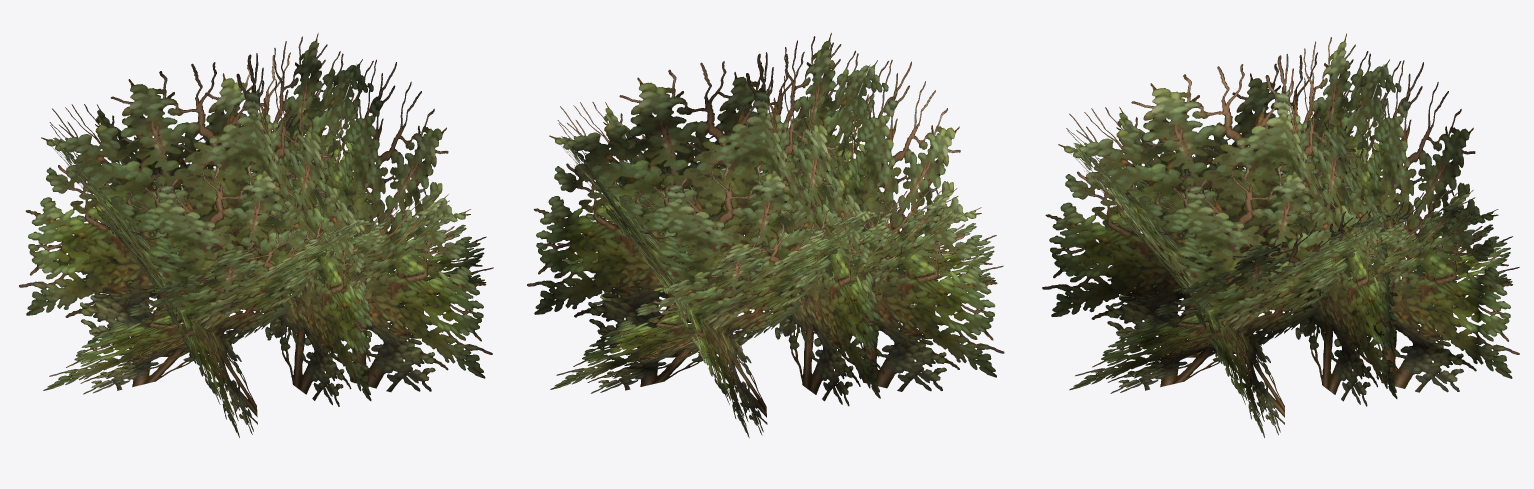
File: grizzlyhills_bush01.obj
3 views of the same model, side by side, from view 1: azimuth 30°, elevation 25°; view 2: azimuth 150°, elevation 25°; view 3: azimuth 270°, elevation 25° (orthographic).
Parts seen in each view (by area): view 1: grizzlyhills_bush01; view 2: grizzlyhills_bush01; view 3: grizzlyhills_bush01.
Part boxes in pixels (x1,y1,x2,y2): grizzlyhills_bush01: (19,33,493,437); grizzlyhills_bush01: (527,33,1004,437); grizzlyhills_bush01: (1042,33,1519,437).
Size of the model in its own units: 2.85 by 1.78 by 2.51.
1 material, 1 textured.
